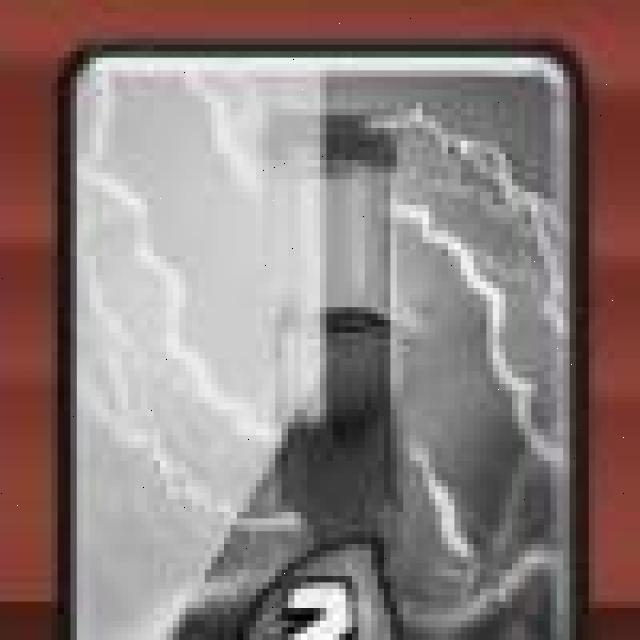Zap: (64, 50, 582, 640)
